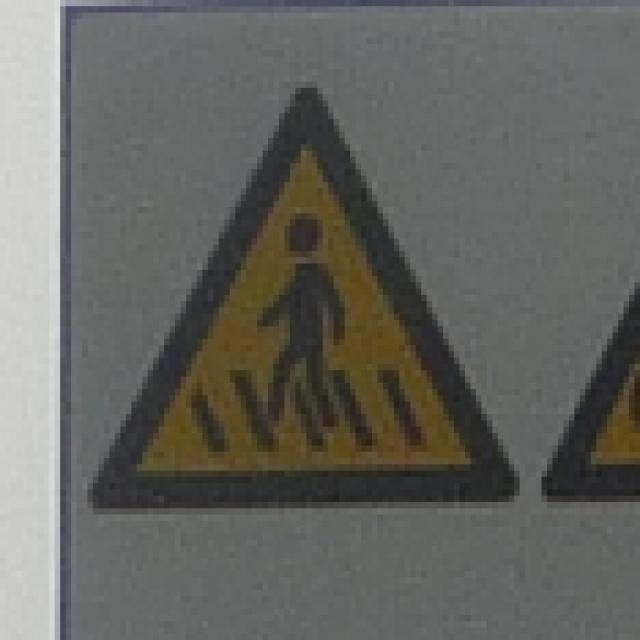Crossing: (87, 66, 526, 506)
